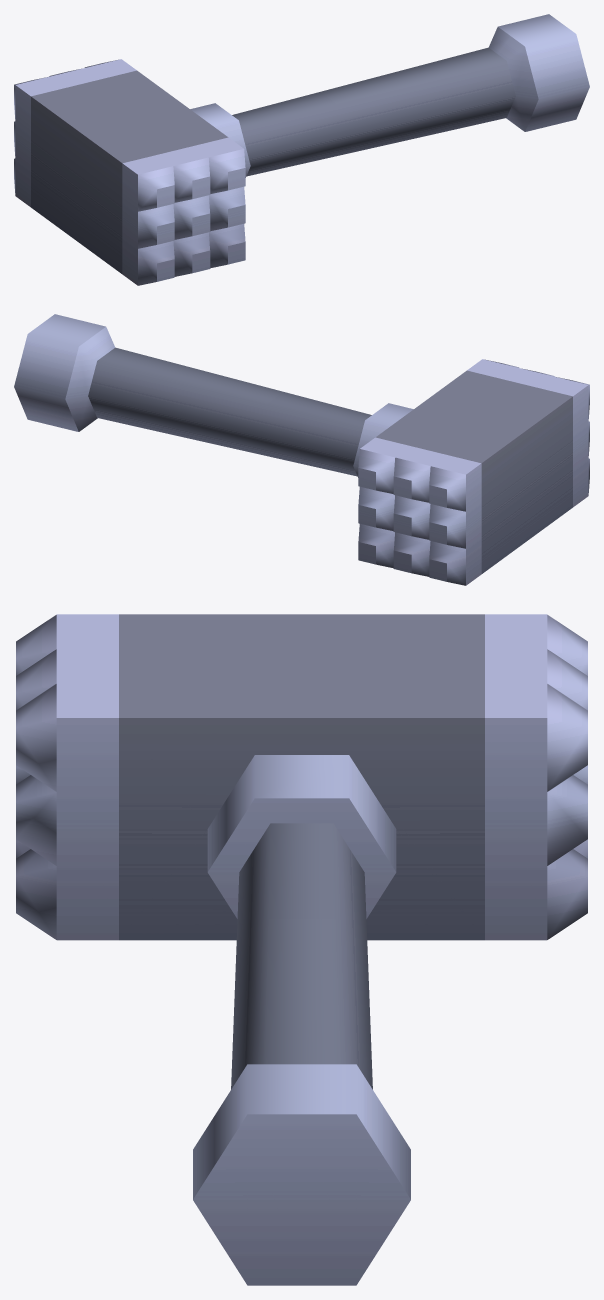
File: meat-tenderizer.glb
The picture shows the model from 3 angles, top to bottom: view 1: azimuth 30°, elevation 25°; view 2: azimuth 150°, elevation 25°; view 3: azimuth 270°, elevation 25°; orthographic projection. The views are drawn at different scales.
Parts seen in each view (by area): view 1: meat-tenderizer; view 2: meat-tenderizer; view 3: meat-tenderizer.
Boxes of the visible parts, left/top/right/bottom form: meat-tenderizer: left=14, top=14, right=589, bottom=285; meat-tenderizer: left=14, top=314, right=589, bottom=585; meat-tenderizer: left=16, top=614, right=587, bottom=1285.
Bounding box in the file's own units: 0.5408 × 0.1182 × 0.2757.
Materials: 1 (1 with a texture image).
